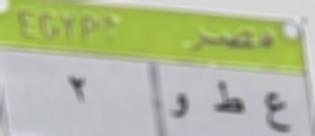2: (62, 72, 92, 105)
Taa: (212, 78, 246, 119)
ain: (261, 87, 295, 136)
waw: (167, 85, 194, 124)
